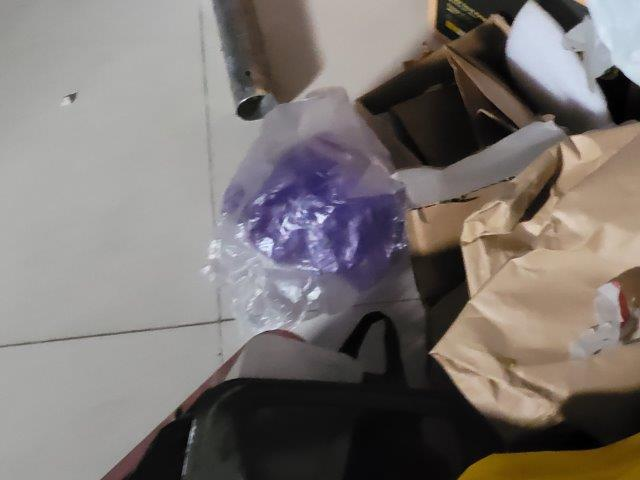kardus: (342, 27, 563, 267)
plastik: (196, 88, 395, 341)
